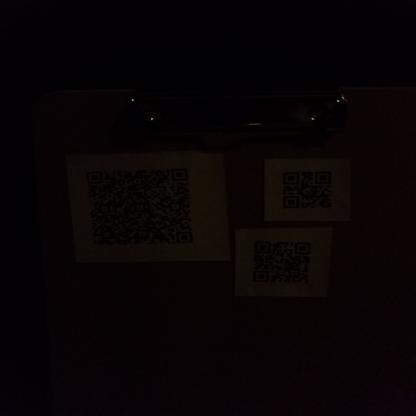qr: (86, 167, 196, 245), (252, 239, 316, 288), (279, 166, 337, 211)
